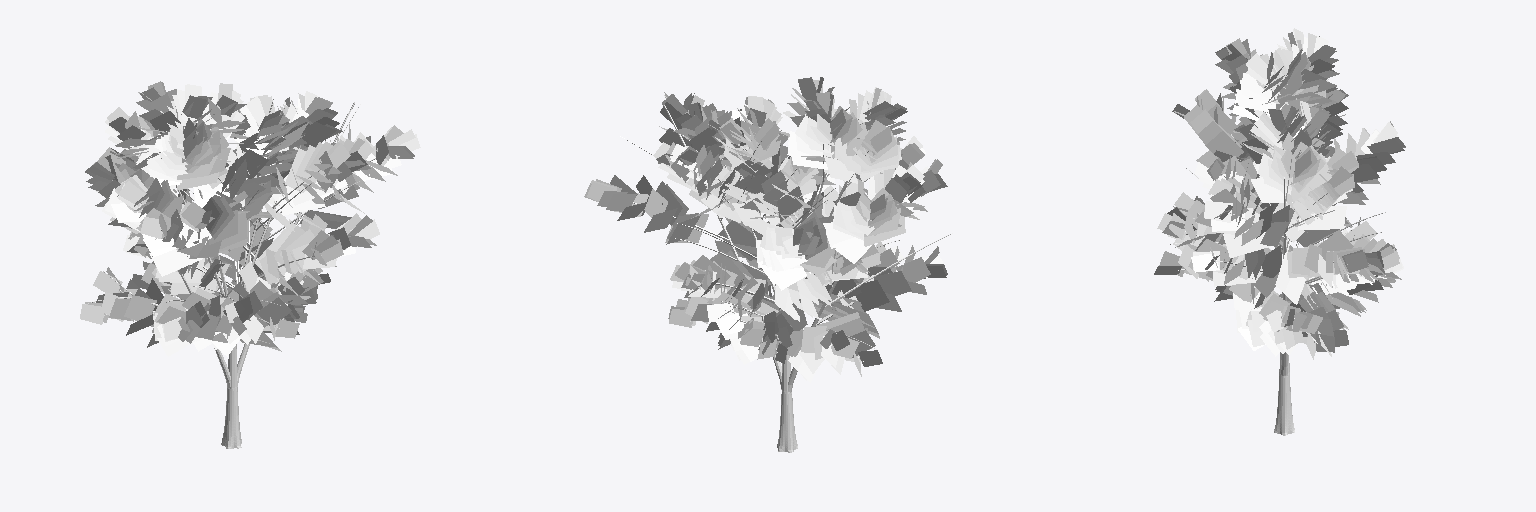
File: tree2.obj
3 views of the same model, side by side, from view 1: azimuth 30°, elevation 25°; view 2: azimuth 150°, elevation 25°; view 3: azimuth 270°, elevation 25° (orthographic).
Parts seen in each view (by area): view 1: tree; view 2: tree; view 3: tree.
Part boxes in pixels (x1,y1,x2,y2): tree: (80, 81, 420, 448); tree: (584, 77, 952, 452); tree: (1154, 28, 1405, 435).
Bounding box in the file's own units: 515 × 615 × 379.